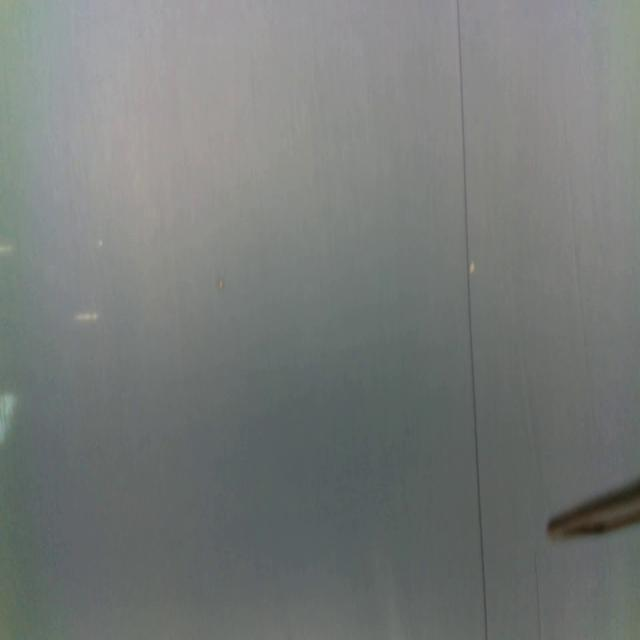crease: (456, 0, 489, 640), (533, 552, 543, 640)
hole: (217, 272, 225, 296), (469, 256, 476, 276)
